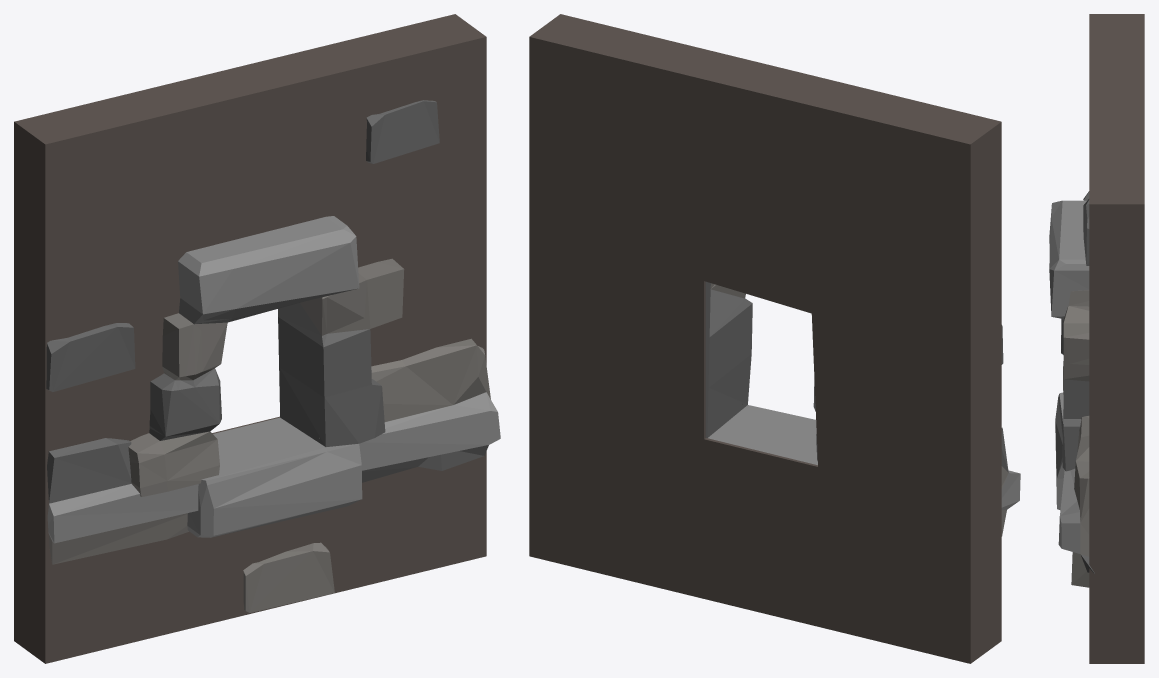
File: MCastle_SquareWalls_Border_LargeWin.FBX
3 views of the same model, side by side, from view 1: azimuth 30°, elevation 25°; view 2: azimuth 150°, elevation 25°; view 3: azimuth 270°, elevation 25° (orthographic). The views are drawn at different scales.
Visible parts, largest first — view 1: MCastle_SquareWalls_Border_LargeWin_LOD0; view 2: MCastle_SquareWalls_Border_LargeWin_LOD0; view 3: MCastle_SquareWalls_Border_LargeWin_LOD0.
Boxes of the visible parts, x1,y1,x2,y2 form: MCastle_SquareWalls_Border_LargeWin_LOD0: (14,14,500,663); MCastle_SquareWalls_Border_LargeWin_LOD0: (529,14,1020,663); MCastle_SquareWalls_Border_LargeWin_LOD0: (1049,14,1144,663).
Size of what is drawn, in the model's own units: 4.06 by 4.5 by 0.8463.
